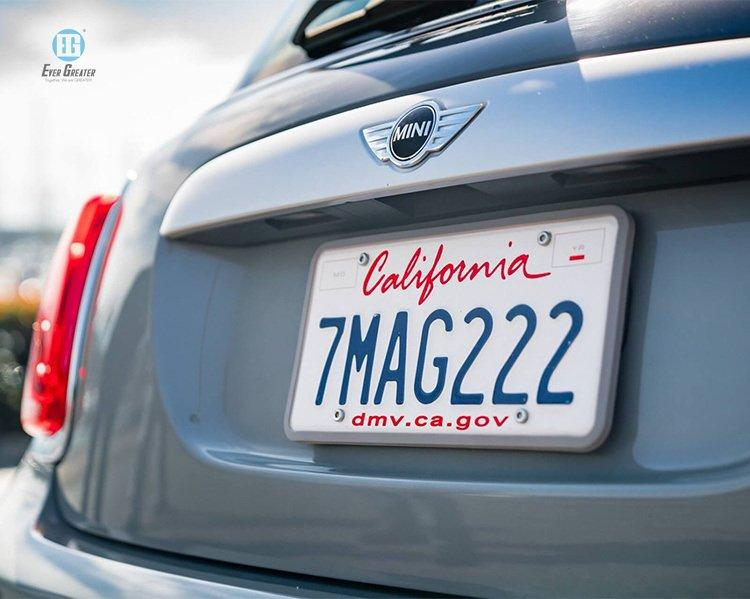Liscence Plate: (307, 244, 610, 429)
